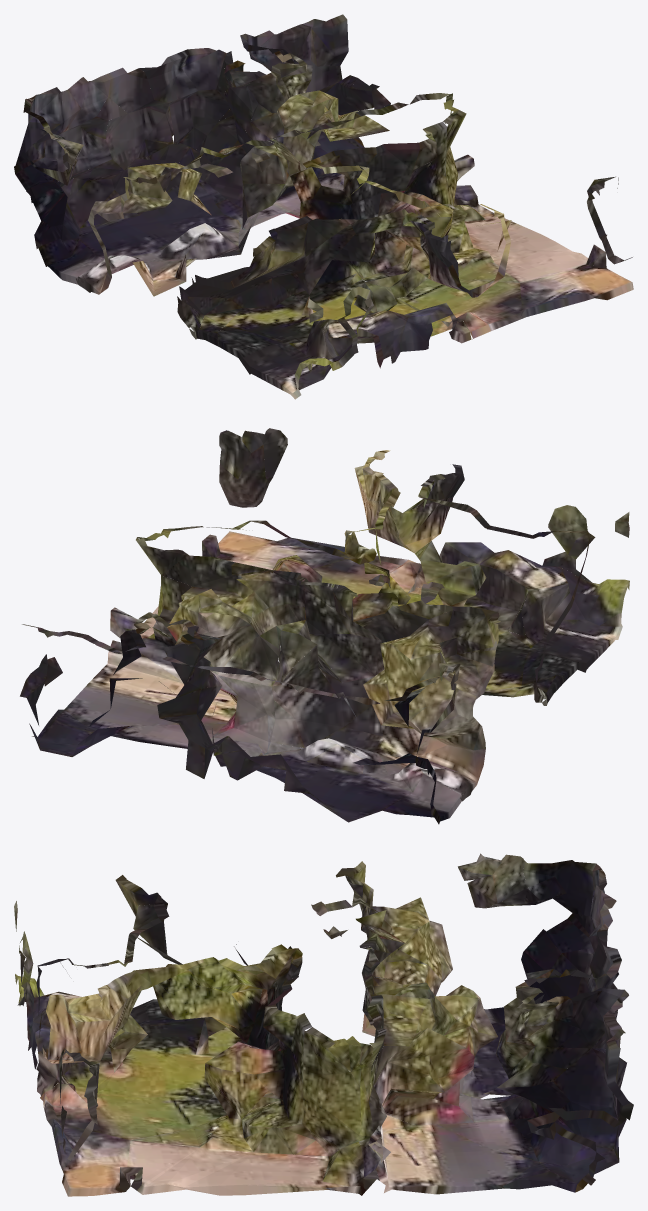
3 views of the same model, one above another, from view 1: azimuth 30°, elevation 25°; view 2: azimuth 150°, elevation 25°; view 3: azimuth 270°, elevation 25° (orthographic). The views are drawn at different scales.
Visible parts, largest first — view 1: Mesh_0; view 2: Mesh_0; view 3: Mesh_0.
Boxes of the visible parts, left/top/right/bottom form: Mesh_0: left=14, top=14, right=633, bottom=399; Mesh_0: left=20, top=428, right=629, bottom=824; Mesh_0: left=14, top=853, right=633, bottom=1196.
Bounding box in the file's own units: 33.02 × 11.36 × 39.58.
2 materials, 2 textured.
